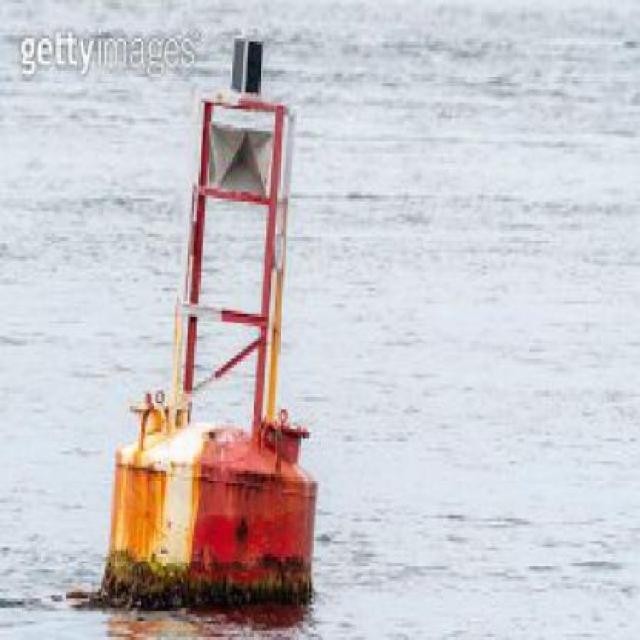buoy: (95, 24, 327, 604)
